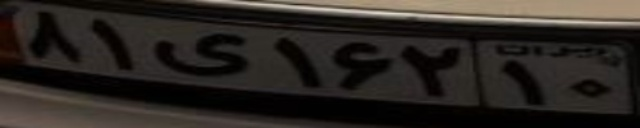0: (565, 76, 613, 100)
1: (267, 35, 322, 88), (89, 17, 134, 71), (497, 57, 546, 106)
2: (399, 42, 461, 98)
6: (329, 40, 395, 91)
8: (24, 8, 83, 64)
ye: (150, 31, 253, 79)
